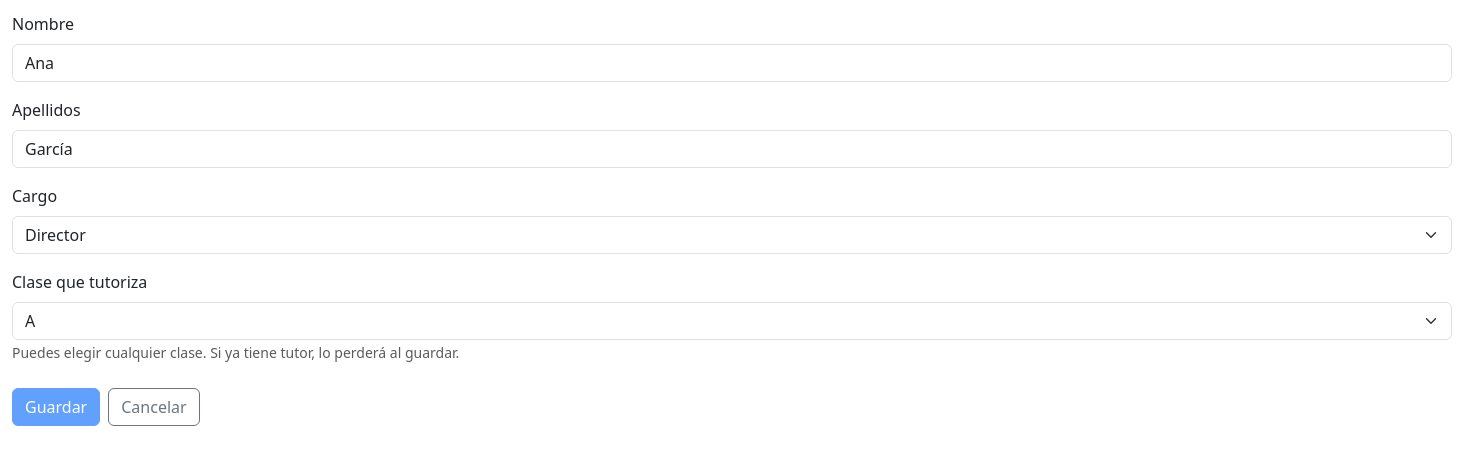
Test: ProfessorForm editing a professor (classMode "any") › submits the final values once, also with a double click while the answer is pending
Select "A · tutor: Luis Pérez" in the dropdown labelled "Clase que tutoriza": (732, 321) [12, 302, 1452, 340]
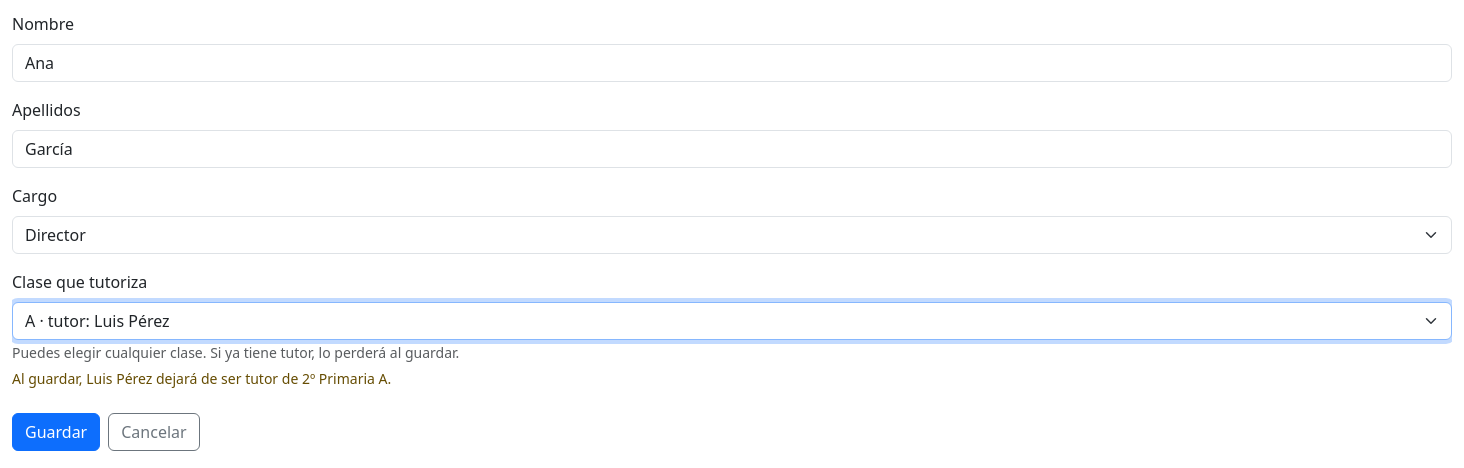
Double-click the button "Guardar": (56, 432) [12, 413, 100, 451]
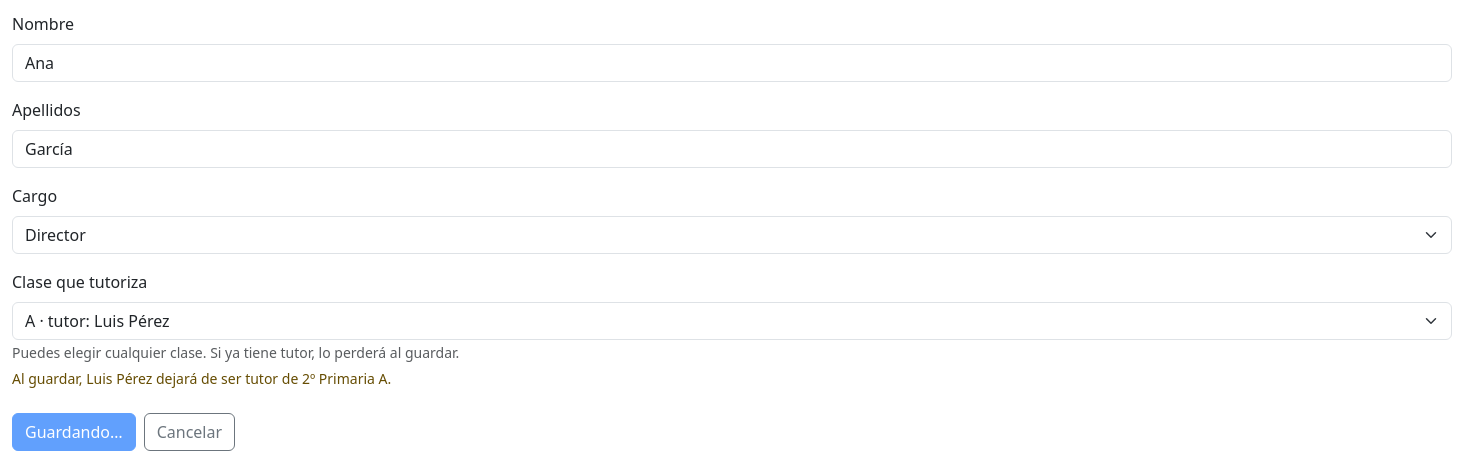
Expected: the button "Guardando…" is disabled, [12, 413, 136, 451]
